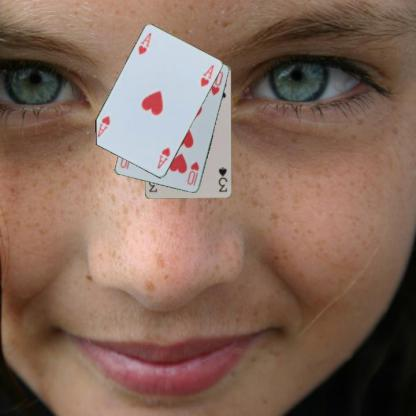10h: (185, 160, 200, 187)
3s: (216, 165, 229, 193)
Ah: (154, 145, 172, 170), (136, 30, 152, 56)
